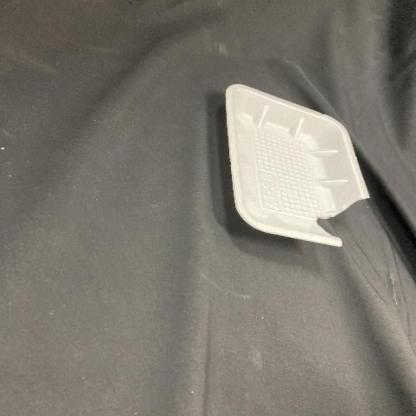Glass Cup: (225, 82, 373, 246), (226, 84, 370, 247)
